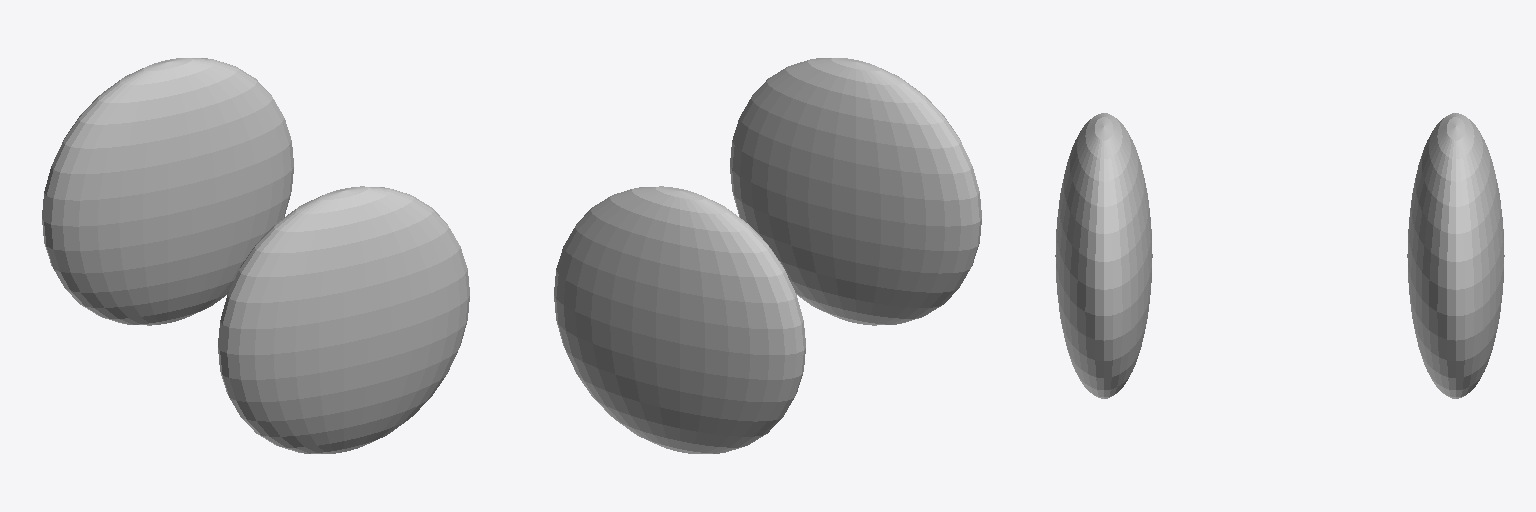
The model's file is tylnie.obj.
The picture shows the model from 3 angles: view 1: azimuth 30°, elevation 25°; view 2: azimuth 150°, elevation 25°; view 3: azimuth 270°, elevation 25°; orthographic projection.
Visible parts, largest first — view 1: Sphere, Sphere.001; view 2: Sphere.001, Sphere; view 3: Sphere, Sphere.001.
Boxes of the visible parts, box(x1,y1,x2,y2) form: Sphere: box(218, 186, 469, 453); Sphere.001: box(42, 58, 293, 325); Sphere.001: box(554, 186, 805, 453); Sphere: box(730, 58, 981, 325); Sphere: box(1055, 113, 1152, 398); Sphere.001: box(1407, 113, 1504, 398).
Bounding box in the file's own units: 2 × 2 × 3.14.